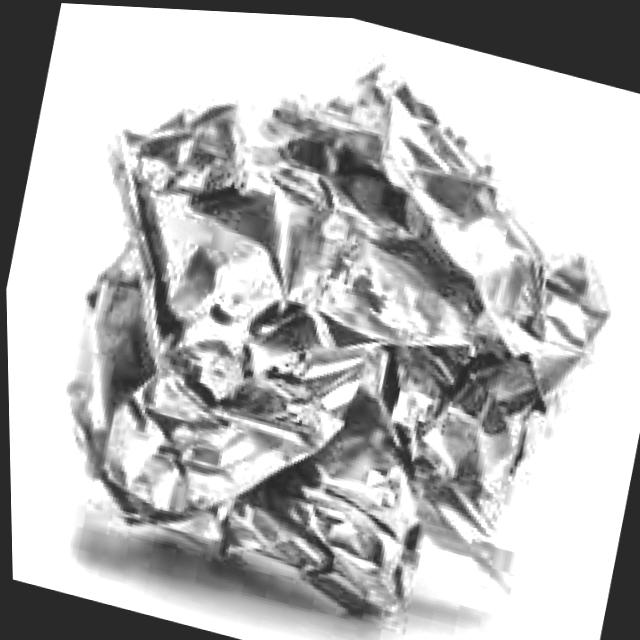Foil: (11, 0, 640, 640)
